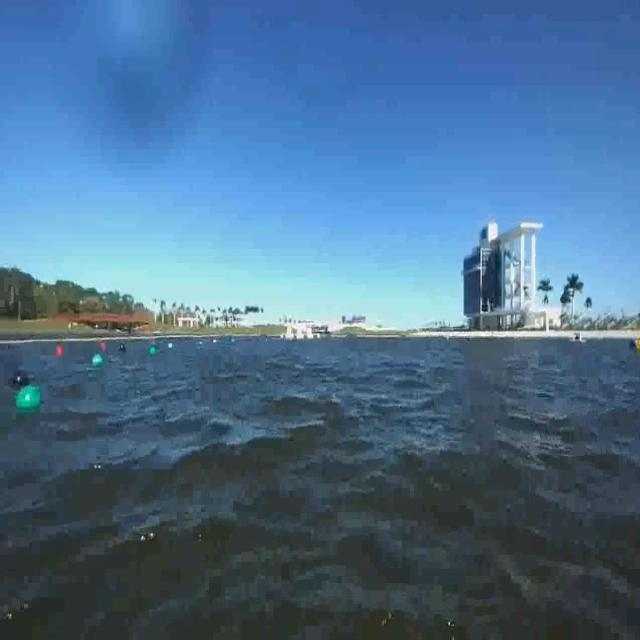black-buoy: (10, 368, 28, 386), (119, 342, 127, 354)
green-buoy: (16, 388, 42, 416), (93, 354, 105, 367), (150, 346, 156, 356)
red-buoy: (58, 346, 66, 358), (98, 342, 104, 352)
yellow-buoy: (635, 338, 640, 355)
